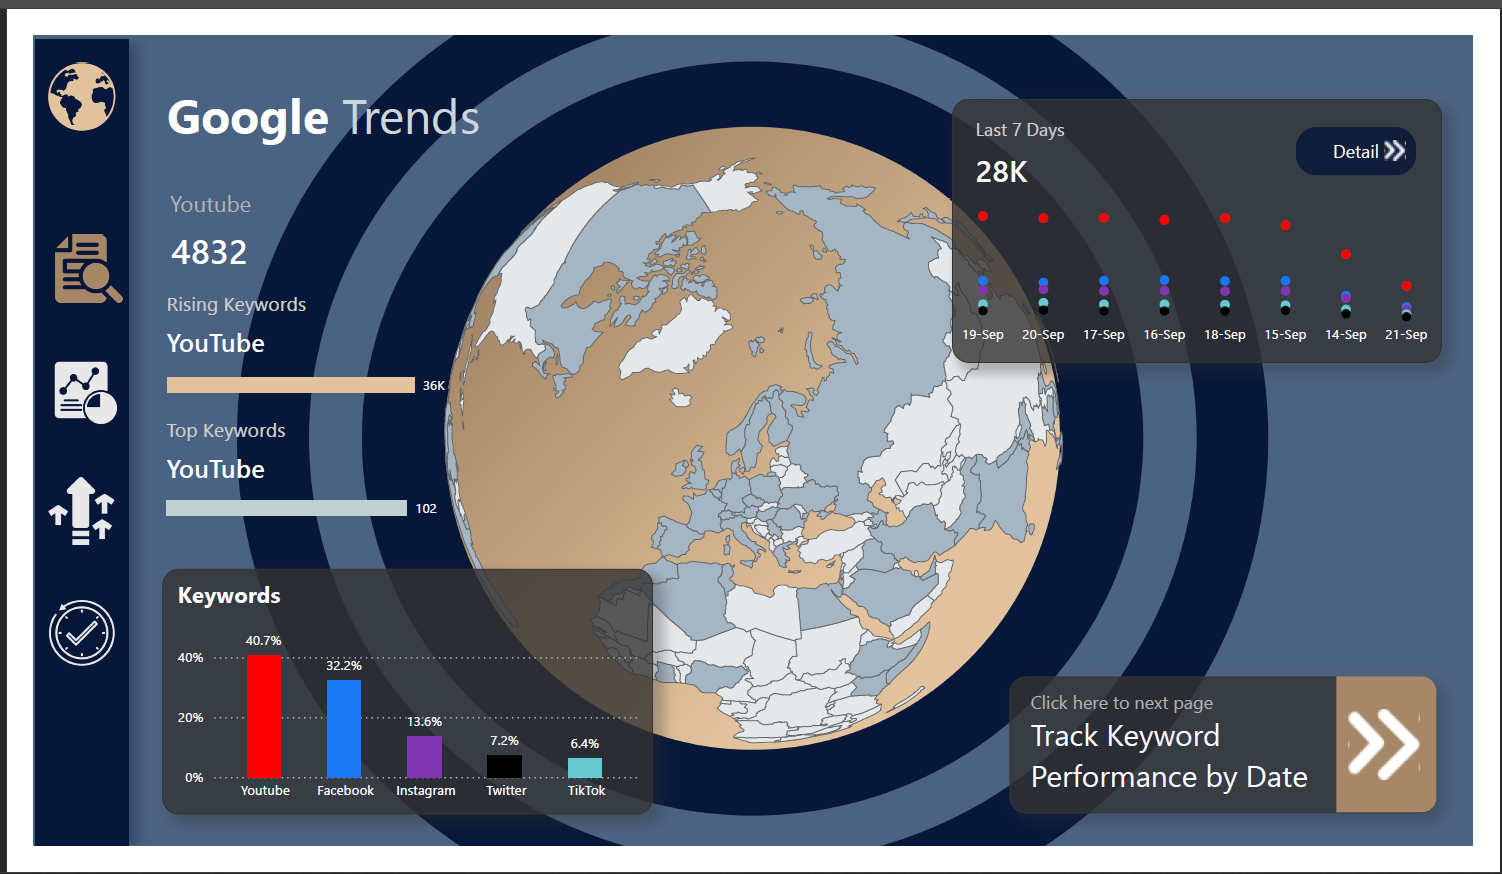

What the dashboard file says about the page in this screenshot:
{"tool":"powerbi","page":{"name":"Overview","canvas":[1280,720],"ordinal":0},"visuals":[{"type":"shapeMap","fields":{"Category":["By_Country.Country"]},"box":[330,35.7,621.4,684.3],"z":0},{"type":"shape","box":[114.3,474.3,437.1,218.6],"z":1000},{"type":"shape","box":[1.2,2.5,82.5,717.5],"z":2000},{"type":"shape","box":[816.9,55.7,436.2,235],"z":3000},{"type":"shape","box":[868.1,569.8,380,122.5],"z":4000},{"type":"actionButton","box":[1159.3,570.3,89,121],"z":5000},{"type":"clusteredColumnChart","title":"Keywords","fields":{"Category":["By_Country.Keywords"],"Y":["Country_Measures.Country_Value"]},"box":[123,483,419,207],"z":6000},{"type":"lineChart","fields":{"Series":["By_Date_(Past 7 Days).Keywords"],"Y":["By_Date_(Past 7 Days).Last_7_Days_Value"],"Category":["By_Date_(Past 7 Days).New_Date"]},"box":[816.7,104.9,431.8,179.1],"z":7000},{"type":"actionButton","box":[1122.9,81.4,107.1,42.9],"z":8000},{"type":"cardVisual","fields":{"Data":["By_Date_(Past 7 Days).Last_7_Days_Value"]},"box":[821.2,54,122.7,80.9],"z":9000},{"type":"textbox","box":[881.8,577.3,291.2,107.5],"z":10000},{"type":"actionButton","box":[1124.3,80,105.7,44.3],"z":11000},{"type":"image","box":[10.9,282.5,70,70],"z":12000},{"type":"image","box":[6.7,387.9,70,70],"z":13000},{"type":"image","box":[7.8,495.7,70,70],"z":14000},{"type":"cardVisual","fields":{"Data":["By_Date.Imp_Value"]},"box":[116.2,135,108.8,88.8],"z":15000},{"type":"clusteredBarChart","fields":{"Y":["Sum(Rising_Keywords.Values)"]},"box":[113.8,273.4,257.5,67.5],"z":16000},{"type":"clusteredBarChart","fields":{"Y":["Sum(Top_Keywords.Values)"]},"box":[112.5,382.5,258.8,67.5],"z":17000},{"type":"cardVisual","fields":{"Data":["Rising_Keywords.rising_overview_title"]},"box":[113.8,215.9,190,82.5],"z":18000},{"type":"cardVisual","fields":{"Data":["Top_Keywords.Top_overview_title"]},"box":[114,330,190,77],"z":19000},{"type":"actionButton","box":[8.6,145.7,70,71.4],"z":20000},{"type":"image","box":[7.9,18.6,70,70],"z":21000},{"type":"image","box":[13.8,172.2,70,70],"z":22000},{"type":"textbox","box":[112.9,35.7,318.6,78.6],"z":24000}]}

Visuals, with their boxes on the page's 1280x720 design canvas (x1, y1, x2, y2). These are canvas units, not pixel positions in the 1502x874 screenshot, which may show the page scaled, cropped or inside an application window:
shapeMap - By_Country.Country: l=330, t=36, r=951, b=720
shape: l=114, t=474, r=551, b=693
shape: l=1, t=2, r=84, b=720
shape: l=817, t=56, r=1253, b=291
shape: l=868, t=570, r=1248, b=692
actionButton: l=1159, t=570, r=1248, b=691
"Keywords" clusteredColumnChart: l=123, t=483, r=542, b=690
lineChart - By_Date_(Past 7 Days).Keywords x By_Date_(Past 7 Days).Last_7_Days_Value: l=817, t=105, r=1248, b=284
actionButton: l=1123, t=81, r=1230, b=124
cardVisual - By_Date_(Past 7 Days).Last_7_Days_Value: l=821, t=54, r=944, b=135
textbox: l=882, t=577, r=1173, b=685
actionButton: l=1124, t=80, r=1230, b=124
image: l=11, t=282, r=81, b=352
image: l=7, t=388, r=77, b=458
image: l=8, t=496, r=78, b=566
cardVisual - By_Date.Imp_Value: l=116, t=135, r=225, b=224
clusteredBarChart - Sum(Rising_Keywords.Values): l=114, t=273, r=371, b=341
clusteredBarChart - Sum(Top_Keywords.Values): l=112, t=382, r=371, b=450
cardVisual - Rising_Keywords.rising_overview_title: l=114, t=216, r=304, b=298
cardVisual - Top_Keywords.Top_overview_title: l=114, t=330, r=304, b=407
actionButton: l=9, t=146, r=79, b=217
image: l=8, t=19, r=78, b=89
image: l=14, t=172, r=84, b=242
textbox: l=113, t=36, r=432, b=114
